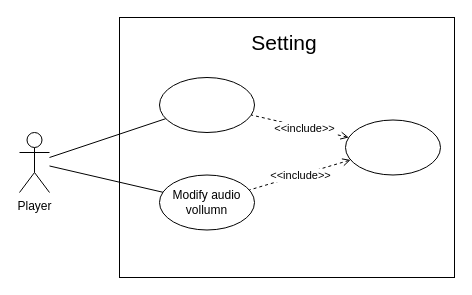
The diagram is 472 pixels wide and 295 high, and some of its shapes have lost their labels. Each missing label, with the box of its shape:
Enable/Disable push to talk: (158, 76, 254, 132)
Open Setting: (344, 119, 440, 175)
